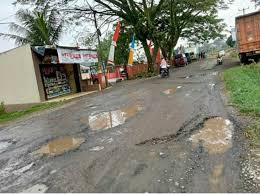Pothole: (141, 120, 246, 177), (21, 125, 89, 179), (70, 95, 155, 131), (162, 75, 219, 107), (5, 160, 57, 194), (0, 124, 21, 160), (207, 67, 223, 81)
